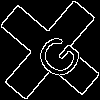G: (25, 25, 86, 84)
